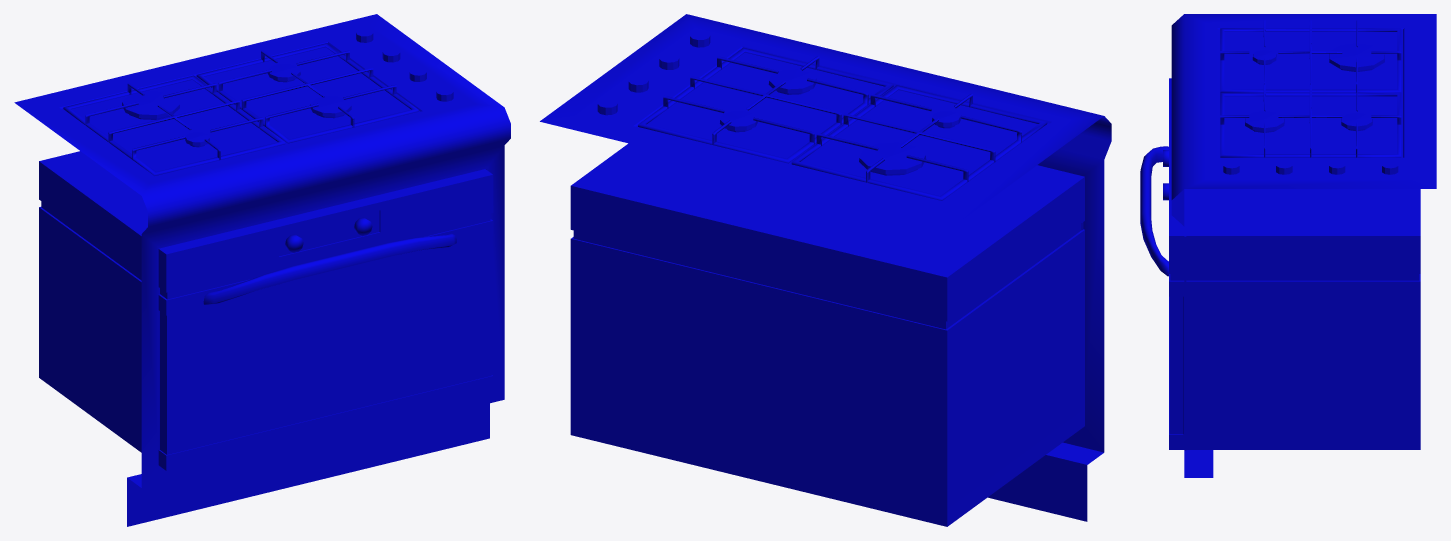
Rendered from Object_CounterCentre.fbx.
The picture shows the model from 3 angles, left to right: view 1: azimuth 30°, elevation 25°; view 2: azimuth 150°, elevation 25°; view 3: azimuth 270°, elevation 25°; orthographic projection. The views are drawn at different scales.
Parts seen in each view (by area): view 1: Oven_LOW, CounterCentre_Body_LOW, Stovetop_Body_LOW, StoveGriddle2_LOW, StoveGriddle1_LOW; view 2: Oven_LOW, Stovetop_Body_LOW, CounterCentre_Body_LOW, StoveGriddle2_LOW, StoveGriddle1_LOW; view 3: Oven_LOW, Stovetop_Body_LOW, CounterCentre_Body_LOW, StoveGriddle1_LOW, StoveGriddle2_LOW.
Part boxes in pixels (x1,y1,x2,y2): Oven_LOW: [39, 151, 493, 470]; CounterCentre_Body_LOW: [14, 14, 510, 526]; Stovetop_Body_LOW: [43, 26, 475, 183]; StoveGriddle2_LOW: [63, 75, 285, 175]; StoveGriddle1_LOW: [196, 43, 418, 143]; Oven_LOW: [570, 143, 1084, 526]; Stovetop_Body_LOW: [572, 28, 1070, 209]; CounterCentre_Body_LOW: [540, 14, 1111, 521]; StoveGriddle2_LOW: [791, 85, 1047, 200]; StoveGriddle1_LOW: [638, 47, 893, 163]; Oven_LOW: [1140, 78, 1420, 449]; Stovetop_Body_LOW: [1205, 22, 1416, 180]; CounterCentre_Body_LOW: [1171, 14, 1436, 477]; StoveGriddle1_LOW: [1220, 84, 1401, 157]; StoveGriddle2_LOW: [1220, 20, 1401, 92].
Size of the model in its own units: 1 by 0.9243 by 0.7157.
